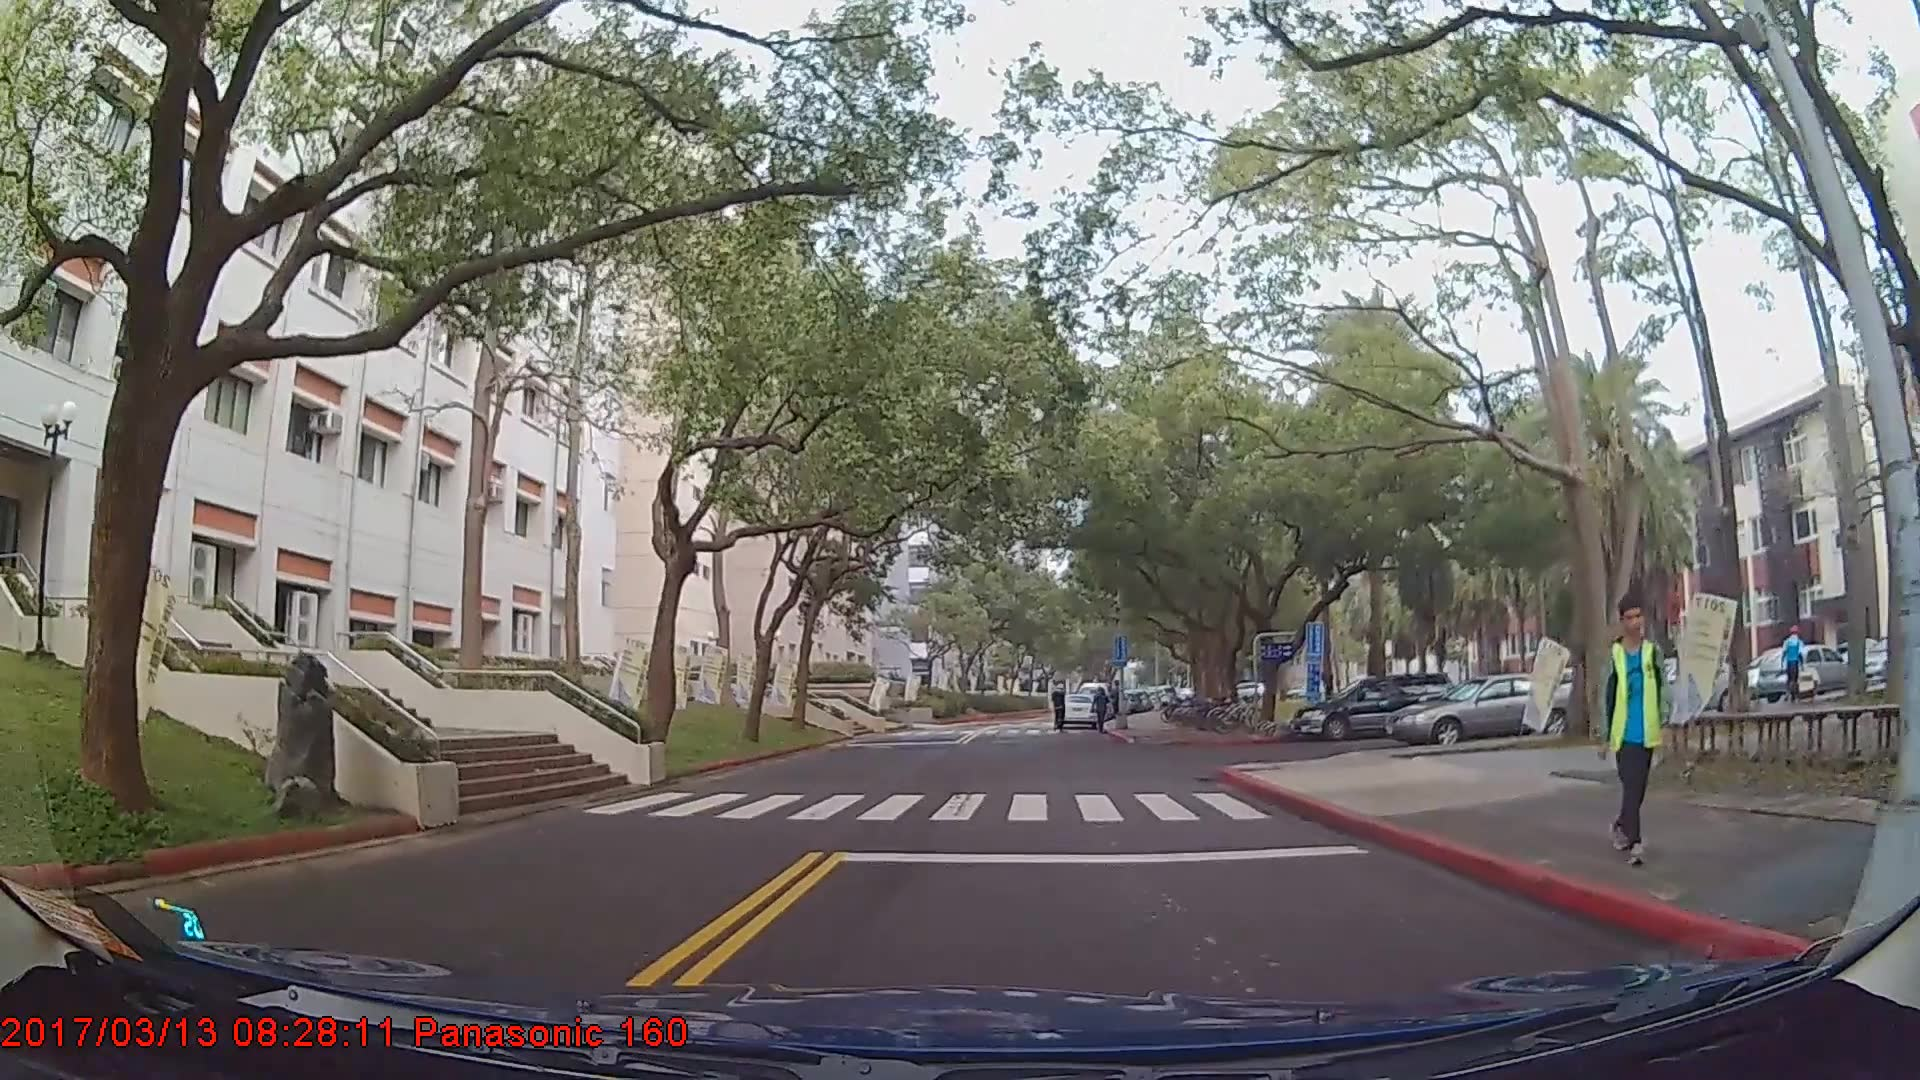pedestrian: (1595, 588, 1672, 862), (1775, 618, 1810, 709), (1049, 685, 1069, 735), (1092, 687, 1112, 735)
vehicle: (1385, 670, 1587, 745), (1292, 670, 1457, 738), (1757, 641, 1852, 700), (1054, 692, 1098, 729)
